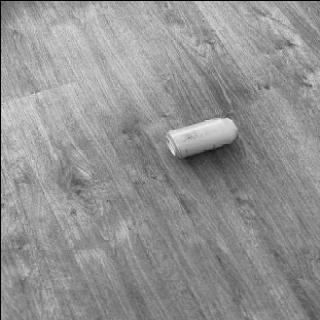alumunium_can: (162, 114, 238, 158)
